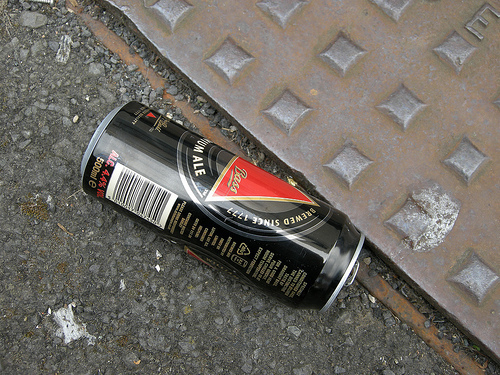litter: (80, 100, 363, 309)
